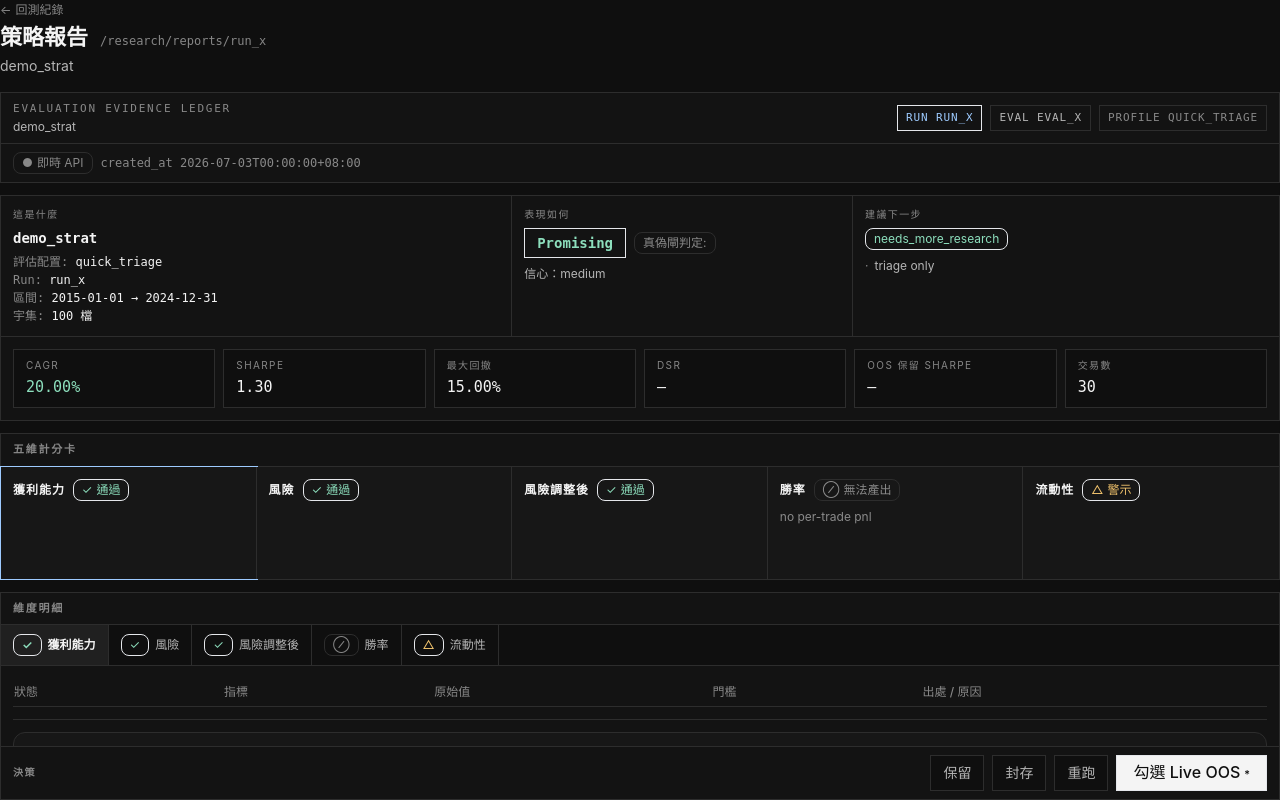
Scenario: ReportViewerPage · api mode › non-eligible Select Live OOS opens a reason dialog then POSTs override select
Click the button with test id "decision-select_live_oos" at [1192, 773], box [1116,755,1267,791]
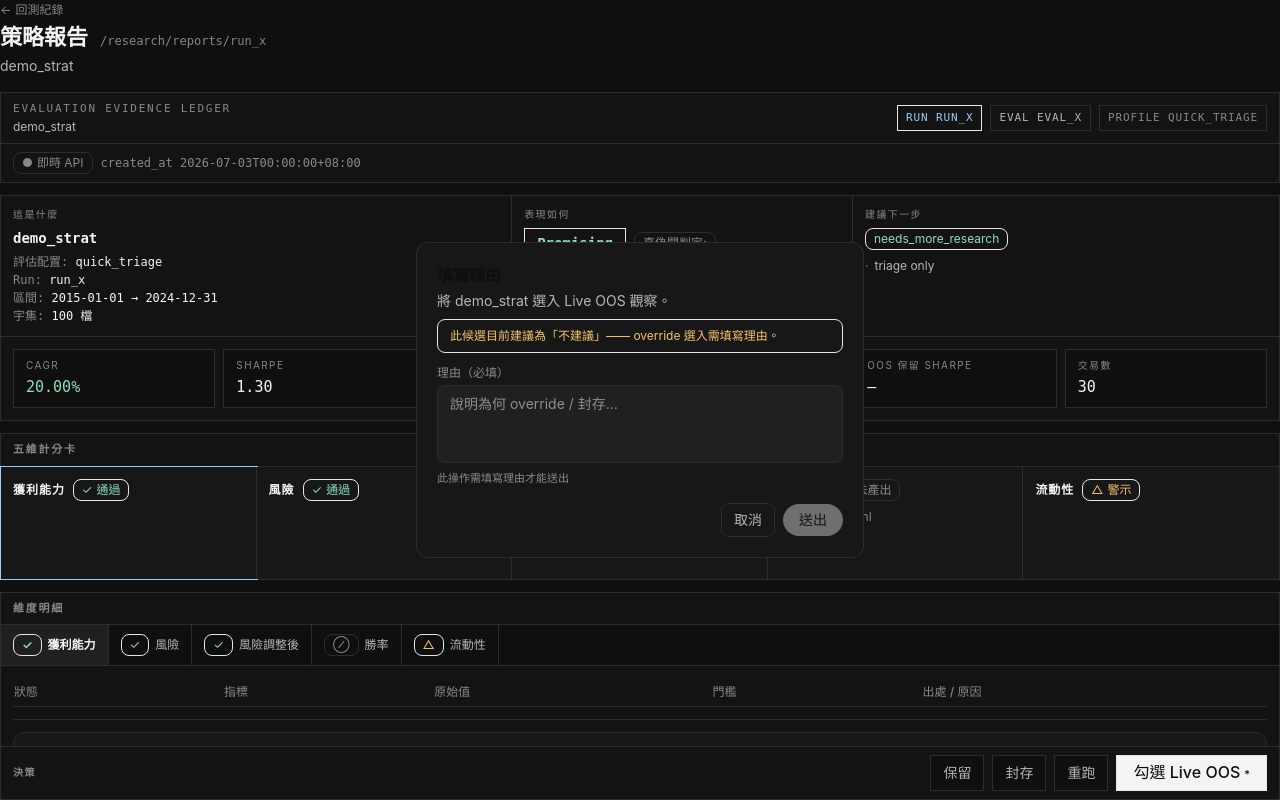
Type "paper-replay probe" into the text box at [640, 424], box [437,385,843,463]
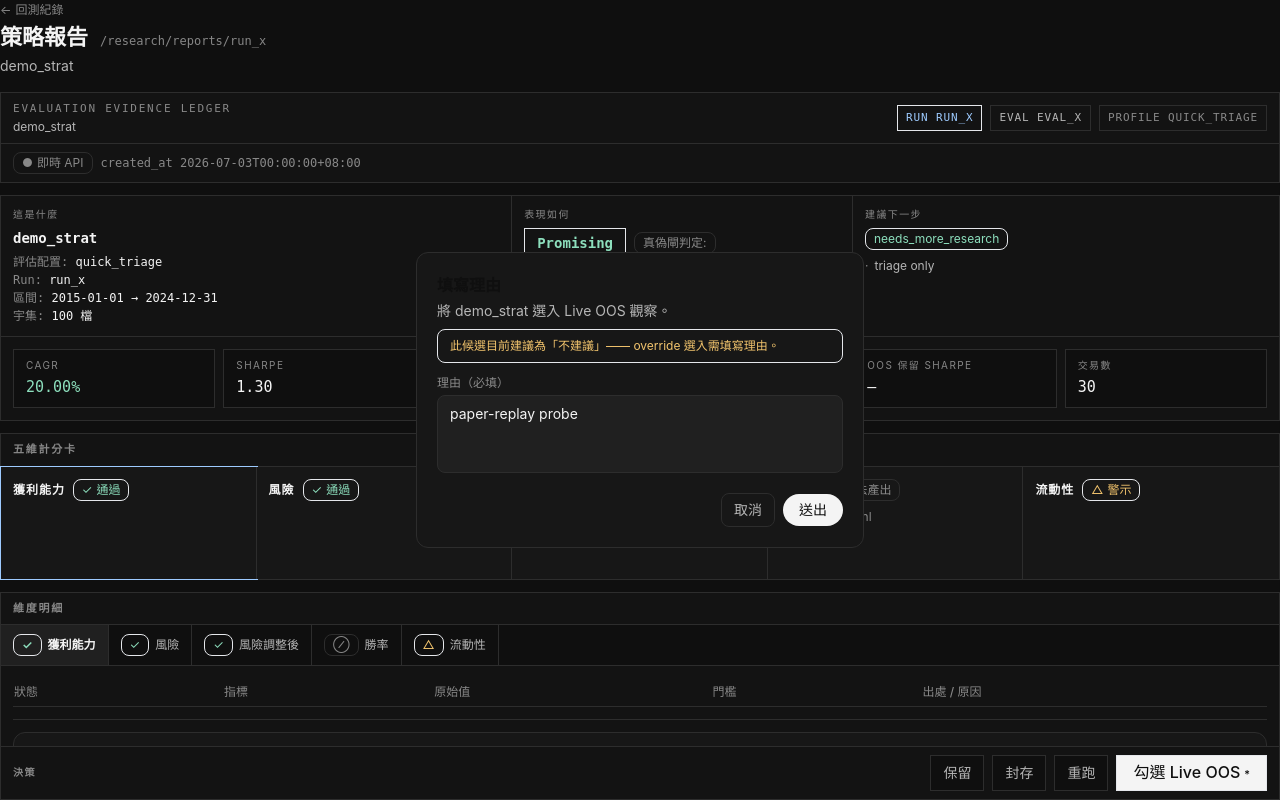
Click the button "送出" at [813, 510], box [783,494,843,526]
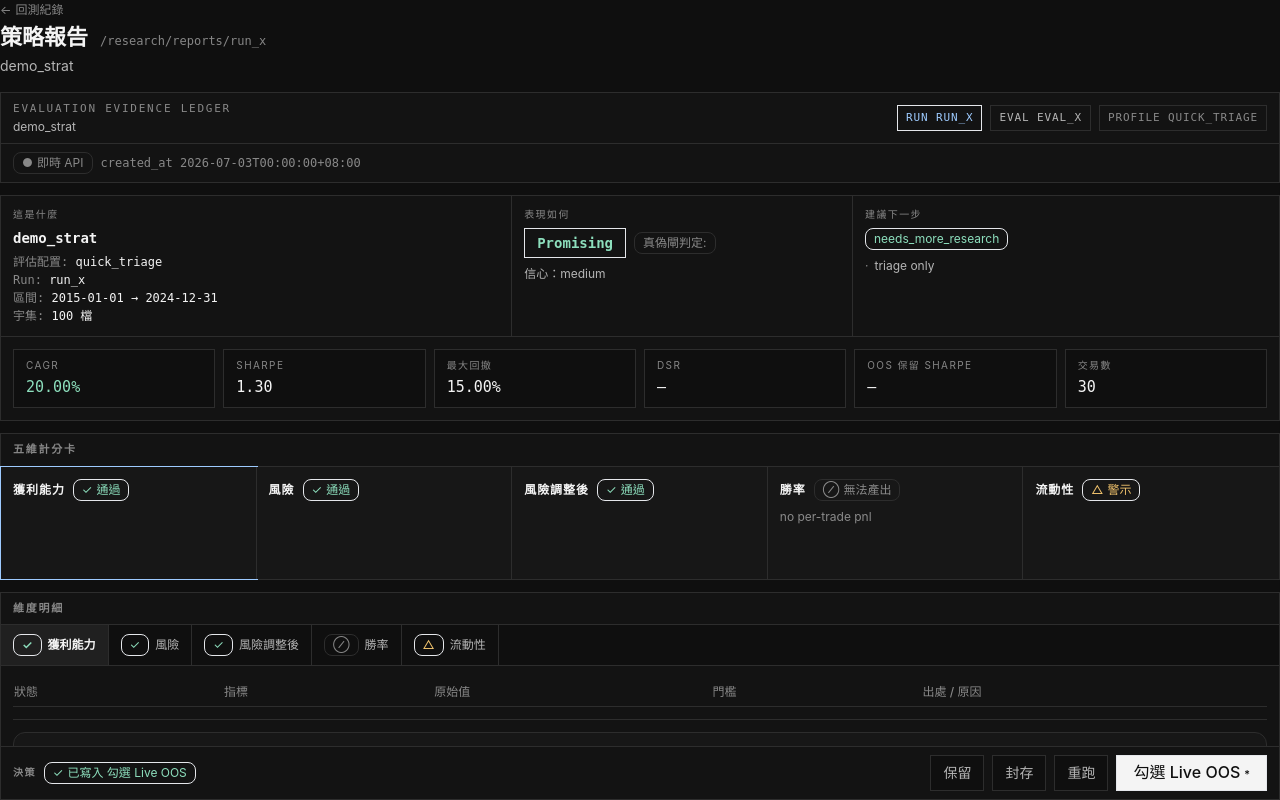
Expected: the dialog is gone
